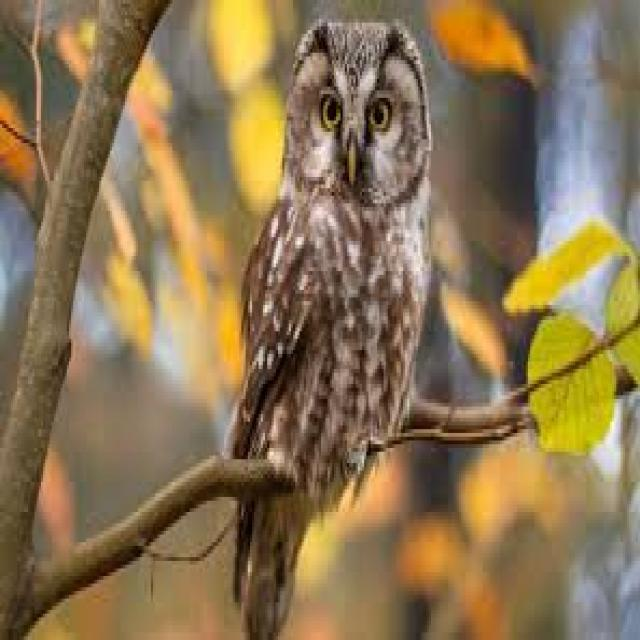Owl: (232, 8, 435, 640)
